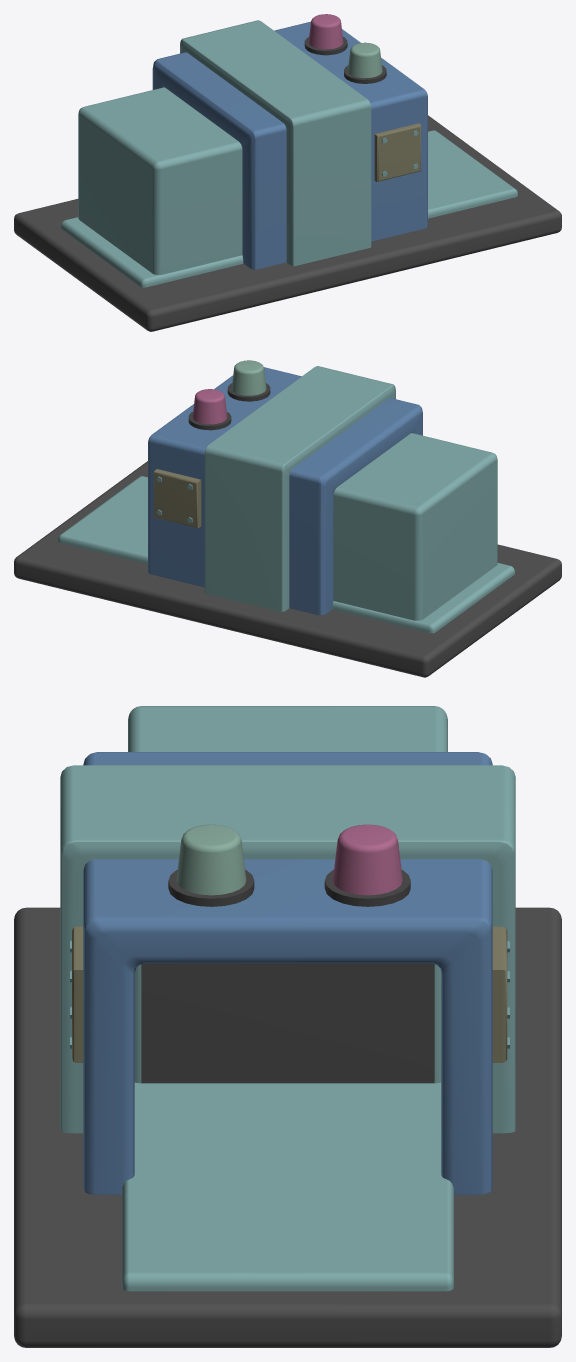
The model's file is CarMachine.fbx.
3 renders of one model, top to bottom at view 1: azimuth 30°, elevation 25°; view 2: azimuth 150°, elevation 25°; view 3: azimuth 270°, elevation 25°, orthographic. The views are drawn at different scales.
Parts seen in each view (by area): view 1: CarMachine; view 2: CarMachine; view 3: CarMachine.
Part boxes in pixels (box(x1,y1,x2,y2)): CarMachine: box(14, 14, 561, 331); CarMachine: box(14, 360, 561, 677); CarMachine: box(14, 706, 561, 1347).
Size of the model in its own units: 10.15 by 4.34 by 5.81.
